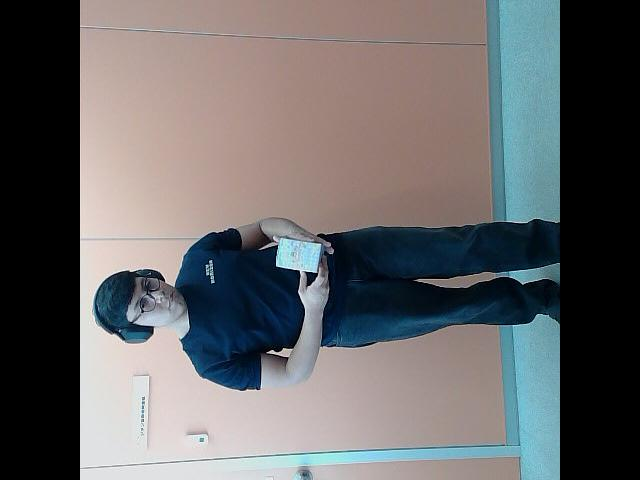Blind_box: (274, 236, 328, 272)
